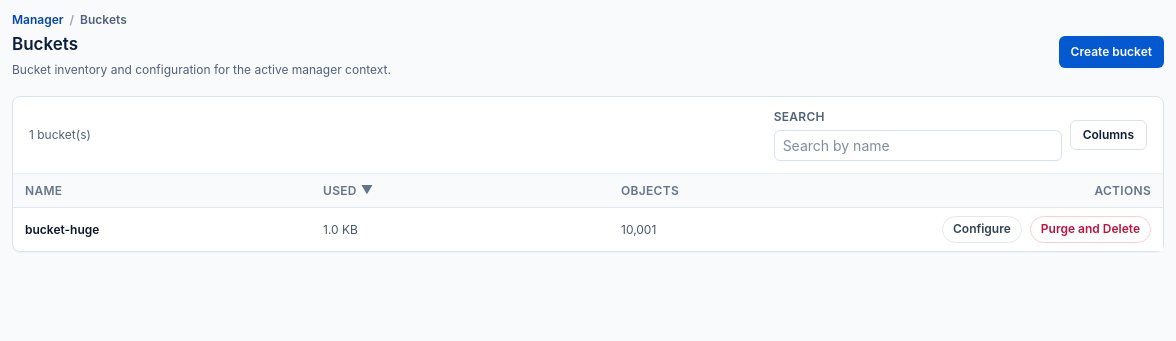
Test: manager shell pages › allows manager delete-with-purge when the visible object count exceeds 10000
The image size is (1176, 341).
Expected: the text "bucket-huge" is shown, [25, 222, 99, 236]
Click the button "Purge and Delete" at (1090, 229), box [1030, 216, 1151, 243]
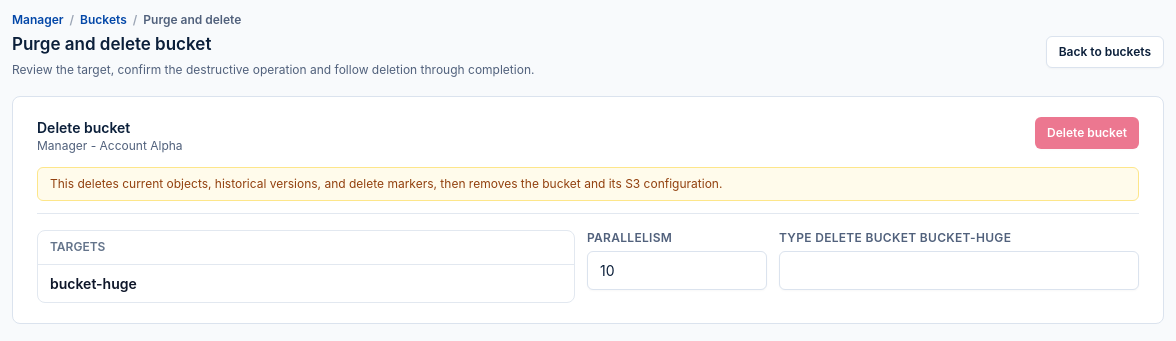
Expected: the field labelled "Type DELETE BUCKET bucket-huge" is shown, [779, 250, 1139, 290]
Expected: the heading "Purge and delete bucket" is shown, [12, 32, 211, 56]
